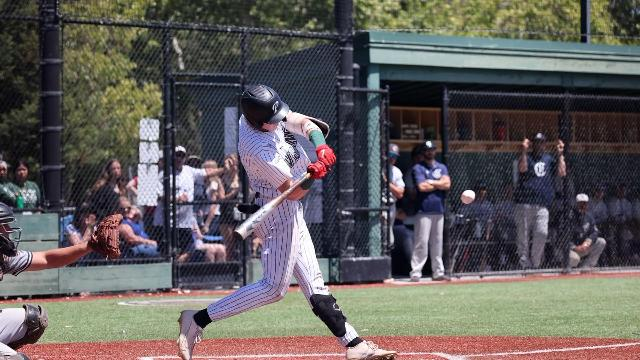ball: (462, 189, 476, 205)
bat: (232, 170, 314, 241)
